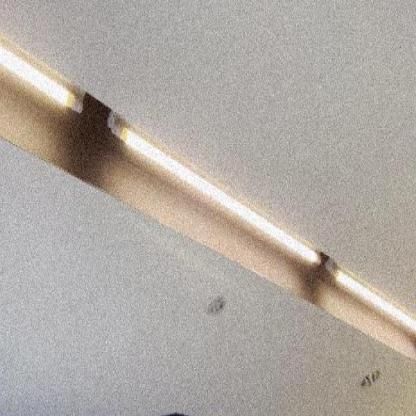light_on: (101, 106, 321, 276), (326, 239, 415, 352), (0, 17, 85, 129)
